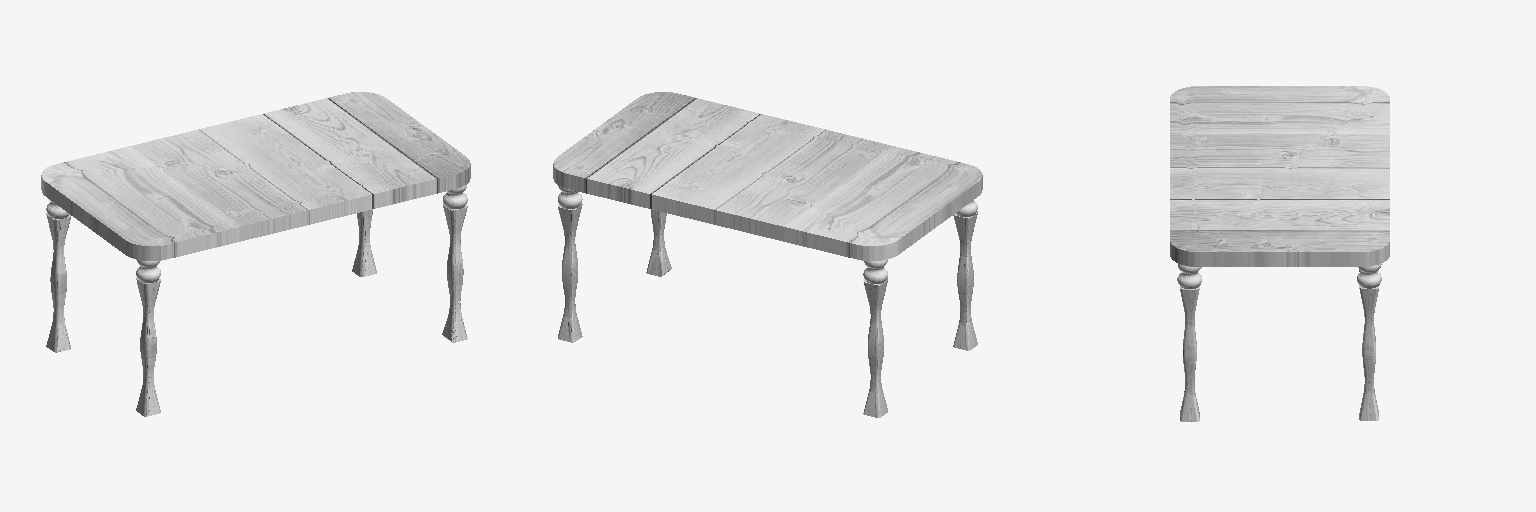
The picture shows the model from 3 angles: view 1: azimuth 30°, elevation 25°; view 2: azimuth 150°, elevation 25°; view 3: azimuth 270°, elevation 25°; orthographic projection.
Visible parts, largest first — view 1: Plano.010_Plano.022; view 2: Plano.010_Plano.022; view 3: Plano.010_Plano.022.
Boxes of the visible parts, <box> form: Plano.010_Plano.022: <box>41,92,470,416</box>; Plano.010_Plano.022: <box>553,92,982,417</box>; Plano.010_Plano.022: <box>1170,86,1389,421</box>.
Size of the model in its own units: 39.32 by 19.13 by 22.
Materials: 6 (1 with a texture image).